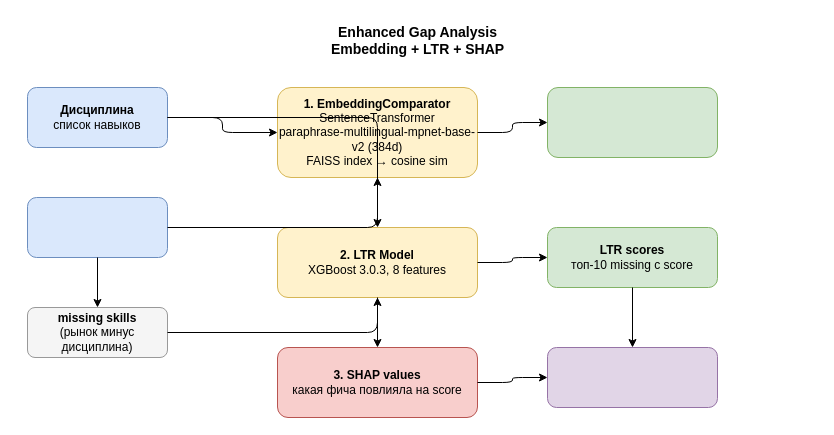
This 834x435 diagram has some shape labels left out. The centre of each missing label's shape, as x and y in pixels:
semantic_coverage weighted_coverage, avg_similarity, top_market_matches: [632,122]
Результат: enhanced ключ в JSON дисциплины: [632,377]
Рынок it_skills.json: [97,227]
